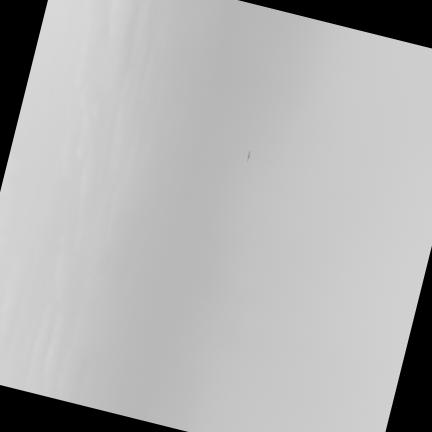Shahed: (246, 150, 250, 160)
